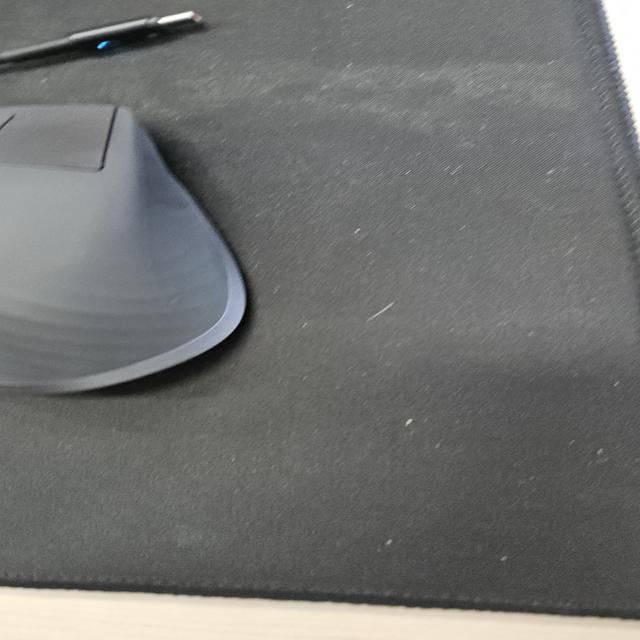Mouse: (2, 101, 251, 395)
